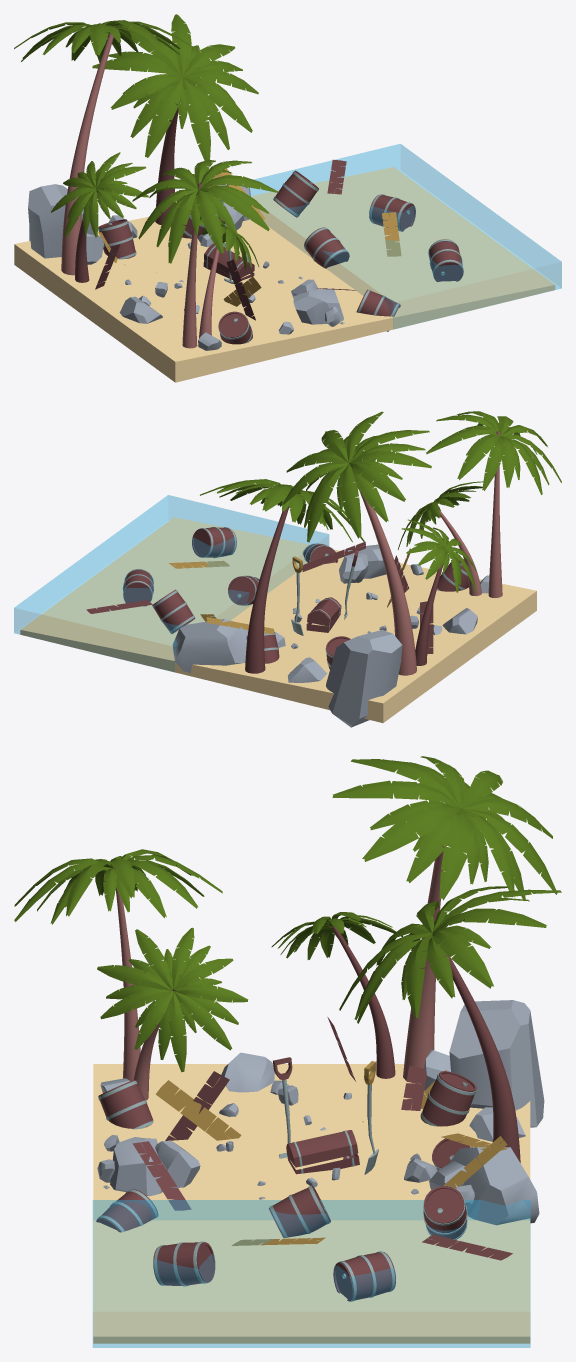
Rendered from island3.glb.
3 views of the same model, one above another, from view 1: azimuth 30°, elevation 25°; view 2: azimuth 150°, elevation 25°; view 3: azimuth 270°, elevation 25° (orthographic). The views are drawn at different scales.
Parts seen in each view (by area): view 1: sand, sea, foliage, foliage.3, foliage.5, foliage.4, rock.010, trunk.4, rock.012, barrel.006, trunk.3, barrel.003 (+15 smaller); view 2: sand, sea, foliage.4, rock.010, foliage.3, rock.004, foliage, trunk.4, trunk, foliage.5, barrel.006, trunk.3 (+15 smaller); view 3: sand, sea, foliage.4, foliage.2, foliage, rock.010, foliage.3, rock.004, trunk, trunk.4, barrel.006, barrel.007 (+20 smaller).
Boxes of the visible parts, x1=… form: sand: x1=14, y1=167, x2=555, y2=382; sea: x1=250, y1=144, x2=561, y2=329; foliage: x1=92, y1=14, x2=258, y2=160; foliage.3: x1=132, y1=159, x2=278, y2=263; foliage.5: x1=51, y1=152, x2=148, y2=237; foliage.4: x1=14, y1=20, x2=196, y2=62; rock.010: x1=28, y1=184, x2=93, y2=258; trunk.4: x1=61, y1=33, x2=113, y2=275; rock.012: x1=293, y1=288, x2=343, y2=324; barrel.006: x1=428, y1=239, x2=463, y2=281; trunk.3: x1=182, y1=182, x2=201, y2=348; barrel.003: x1=304, y1=227, x2=349, y2=268; sand: x1=20, y1=517, x2=536, y2=722; sea: x1=14, y1=495, x2=328, y2=671; foliage.4: x1=283, y1=411, x2=431, y2=542; rock.010: x1=326, y1=630, x2=402, y2=727; foliage.3: x1=426, y1=411, x2=561, y2=494; rock.004: x1=172, y1=618, x2=248, y2=672; foliage: x1=200, y1=479, x2=364, y2=542; trunk.4: x1=356, y1=480, x2=416, y2=675; trunk: x1=245, y1=505, x2=289, y2=673; foliage.5: x1=401, y1=519, x2=476, y2=592; barrel.006: x1=192, y1=527, x2=236, y2=558; trunk.3: x1=488, y1=431, x2=502, y2=597; sand: x1=93, y1=1064, x2=530, y2=1343; sea: x1=93, y1=1200, x2=530, y2=1347; foliage.4: x1=332, y1=756, x2=557, y2=900; foliage.2: x1=97, y1=927, x2=248, y2=1072; foliage: x1=339, y1=886, x2=561, y2=1023; rock.010: x1=449, y1=1000, x2=544, y2=1127; foliage.3: x1=14, y1=849, x2=222, y2=924; rock.004: x1=447, y1=1147, x2=539, y2=1225; trunk: x1=441, y1=943, x2=520, y2=1162; trunk.4: x1=403, y1=845, x2=444, y2=1082; barrel.006: x1=153, y1=1241, x2=215, y2=1286; barrel.007: x1=333, y1=1251, x2=395, y2=1301.
Size of what is drawn, in the model's own units: 10.25 by 6.54 by 8.75.
